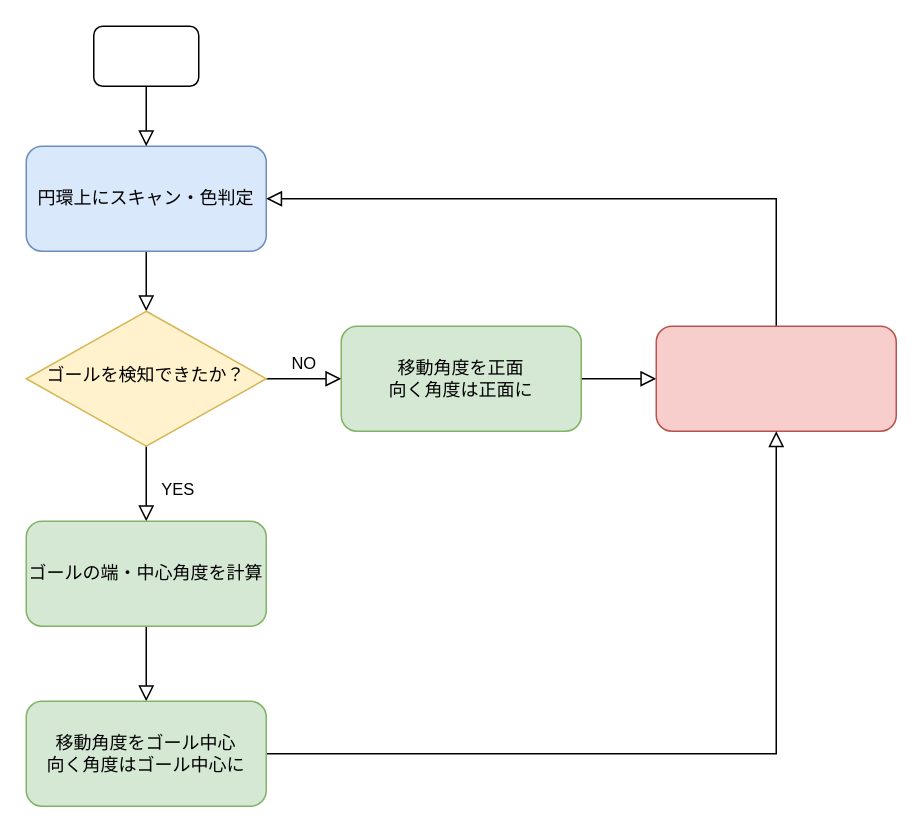
Some shapes in this 923 by 833 pixel diagram are drawn without their labels. The shapes that lost their labels are listed below. From the top down, each one's centre as x and y in pixels, then its label:
(145,55): 処理開始
(775,378): データ送信
